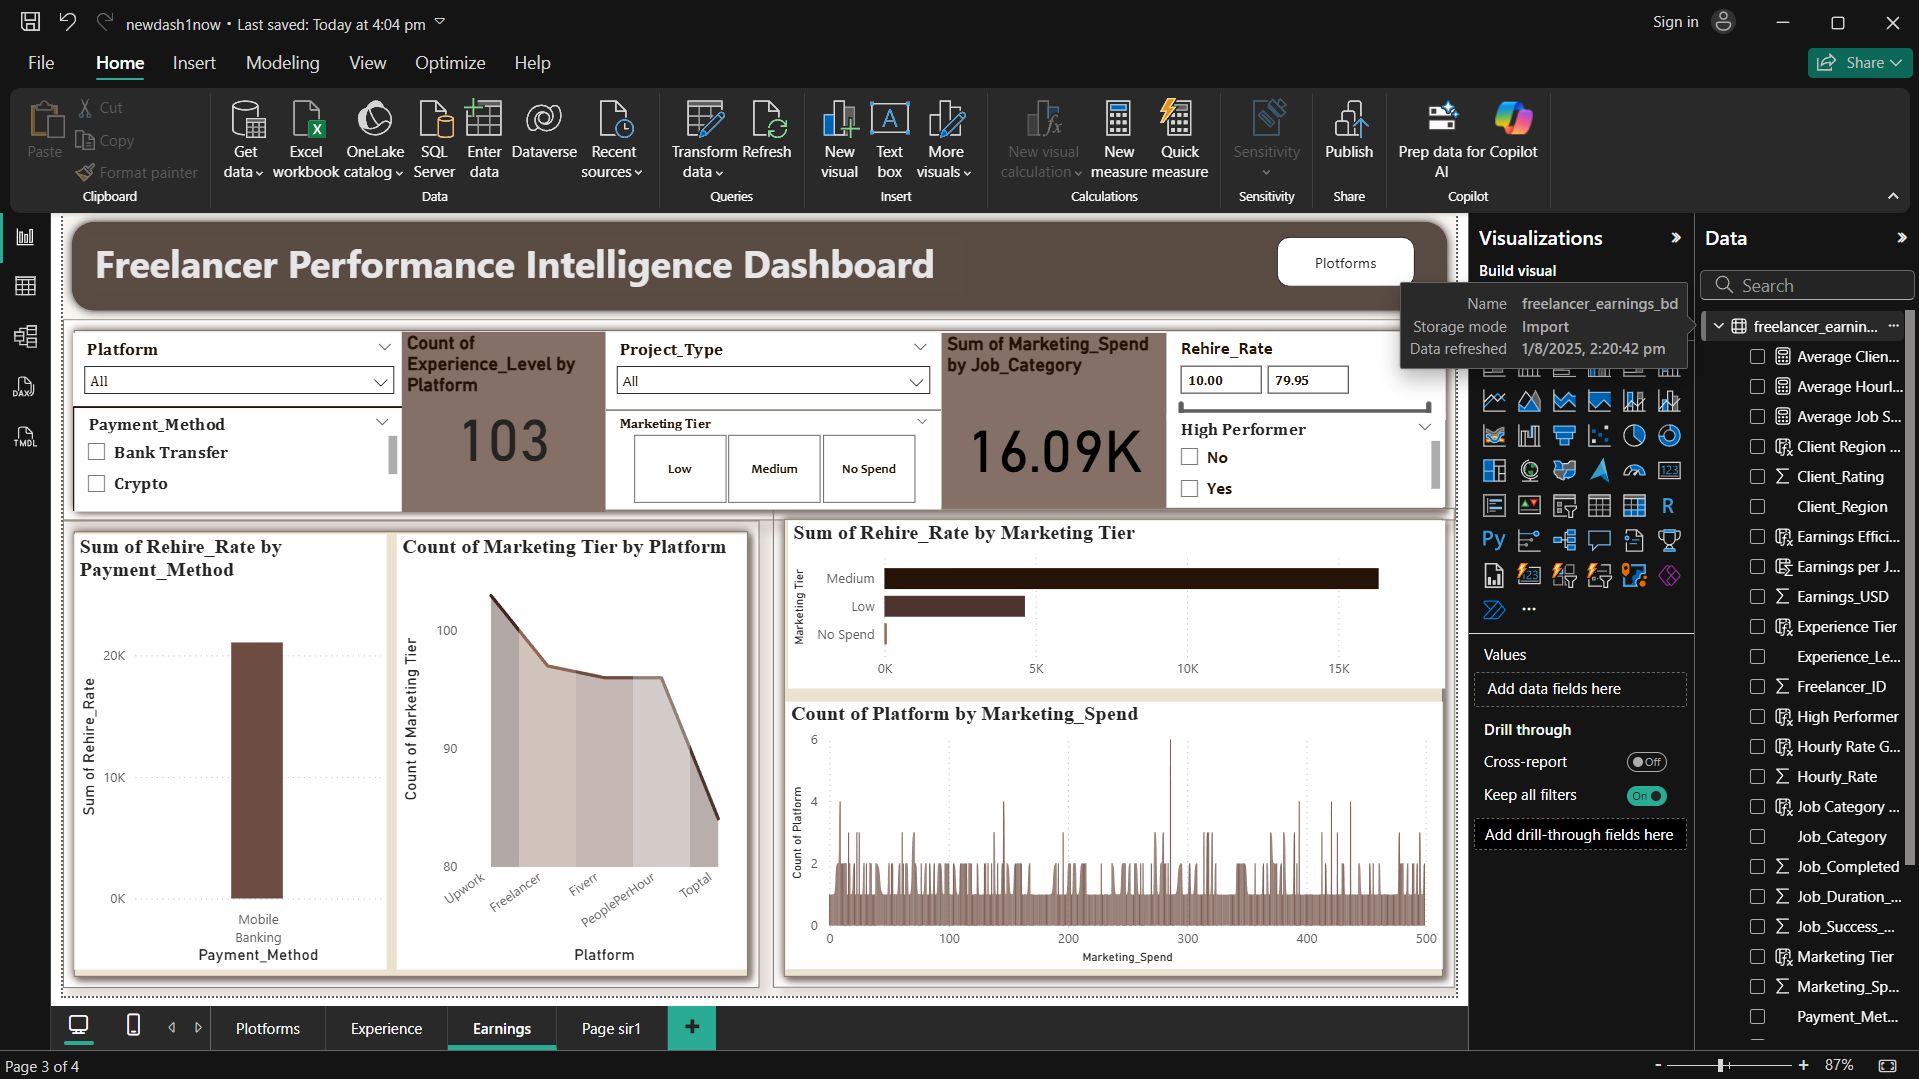

What the dashboard file says about the page in this screenshot:
{"tool":"powerbi","page":{"name":"Earnings","canvas":[1280,720],"ordinal":2},"visuals":[{"type":"shape","box":[0,97.6,1279.6,184.9],"z":0},{"type":"shape","box":[0,0,1280.2,97.9],"z":1000},{"type":"slicer","title":"marketing_tier","fields":{"Values":["freelancer_earnings_bd.Marketing Tier"]},"box":[499.1,182.2,308.6,91.4],"z":1000,"group":"g2"},{"type":"textbox","title":"Freelancer Performance Intelligence Dashboard","box":[24.2,21.5,804.7,52.4],"z":2000},{"type":"slicer","title":"platform","fields":{"Values":["freelancer_earnings_bd.Platform"]},"box":[9.2,110.3,305.6,67.4],"z":2000,"group":"g1"},{"type":"slicer","title":"payment_method","fields":{"Values":["freelancer_earnings_bd.Payment_Method"]},"box":[10.7,179.6,302.1,95],"z":3000,"group":"g1"},{"type":"shape","box":[0,282.6,639.8,429.6],"z":3000},{"type":"slicer","title":"rehire_rate","fields":{"Values":["freelancer_earnings_bd.Rehire_Rate"]},"box":[1014,109,256.2,80.6],"z":4000,"group":"g3"},{"type":"shape","box":[652.5,271.1,626,441.1],"z":4000},{"type":"slicer","title":"project_type","fields":{"Values":["freelancer_earnings_bd.Project_Type"]},"box":[499,110.8,308.6,70],"z":5000,"group":"g2"},{"type":"lineStackedColumnComboChart","fields":{"Category":["freelancer_earnings_bd.Payment_Method"],"Y":["Sum(freelancer_earnings_bd.Rehire_Rate)"]},"box":[10.3,295.2,287.2,399.7],"z":5000},{"type":"slicer","title":"high_performer","fields":{"Values":["freelancer_earnings_bd.High Performer"]},"box":[1014,183.6,256.2,86.6],"z":6000,"group":"g3"},{"type":"areaChart","fields":{"Category":["freelancer_earnings_bd.Platform"],"Y":["CountNonNull(freelancer_earnings_bd.Marketing Tier)"]},"box":[306.7,295.2,321.6,399.7],"z":6000},{"type":"barChart","fields":{"Category":["freelancer_earnings_bd.Marketing Tier"],"Y":["Sum(freelancer_earnings_bd.Rehire_Rate)"]},"box":[665.7,282.9,604.3,154.3],"z":7000},{"type":"ribbonChart","fields":{"Category":["freelancer_earnings_bd.Marketing_Spend"],"Y":["CountNonNull(freelancer_earnings_bd.Platform)"]},"box":[664.3,448.6,604.3,245.7],"z":8000},{"type":"group","id":"g1","title":"Group 1","box":[9.2,110.3,305.6,164.3],"z":9000},{"type":"kpi","fields":{"TrendLine":["freelancer_earnings_bd.Platform"],"Indicator":["CountNonNull(freelancer_earnings_bd.Experience_Level)"]},"box":[311.4,108.6,187.1,165.7],"z":10000},{"type":"kpi","fields":{"Indicator":["Sum(freelancer_earnings_bd.Marketing_Spend)"],"TrendLine":["freelancer_earnings_bd.Job_Category"]},"box":[807.5,110.3,206.8,160.8],"z":11000},{"type":"group","id":"g2","title":"Group 2","box":[499,110.8,308.6,162.9],"z":12000},{"type":"group","id":"g3","title":"Group 3","box":[1014,109,256.2,161.2],"z":13000},{"type":"pageNavigator","box":[1115.2,21.7,127.5,46.9],"z":13501}]}

Visuals, with their boxes on the page's 1280x720 design canvas (x1, y1, x2, y2). These are canvas units, not pixel positions in the 1919x1079 screenshot, which may show the page scaled, cropped or inside an application window:
shape: 0,98,1280,282
shape: 0,0,1280,98
"marketing_tier" slicer: 499,182,808,274
"Freelancer Performance Intelligence Dashboard" textbox: 24,22,829,74
"platform" slicer: 9,110,315,178
"payment_method" slicer: 11,180,313,275
shape: 0,283,640,712
"rehire_rate" slicer: 1014,109,1270,190
shape: 652,271,1278,712
"project_type" slicer: 499,111,808,181
lineStackedColumnComboChart - freelancer_earnings_bd.Payment_Method x Sum(freelancer_earnings_bd.Rehire_Rate): 10,295,298,695
"high_performer" slicer: 1014,184,1270,270
areaChart - freelancer_earnings_bd.Platform x CountNonNull(freelancer_earnings_bd.Marketing Tier): 307,295,628,695
barChart - freelancer_earnings_bd.Marketing Tier x Sum(freelancer_earnings_bd.Rehire_Rate): 666,283,1270,437
ribbonChart - freelancer_earnings_bd.Marketing_Spend x CountNonNull(freelancer_earnings_bd.Platform): 664,449,1269,694
"Group 1" group: 9,110,315,275
kpi - freelancer_earnings_bd.Platform x CountNonNull(freelancer_earnings_bd.Experience_Level): 311,109,498,274
kpi - Sum(freelancer_earnings_bd.Marketing_Spend) x freelancer_earnings_bd.Job_Category: 808,110,1014,271
"Group 2" group: 499,111,808,274
"Group 3" group: 1014,109,1270,270
pageNavigator: 1115,22,1243,69
